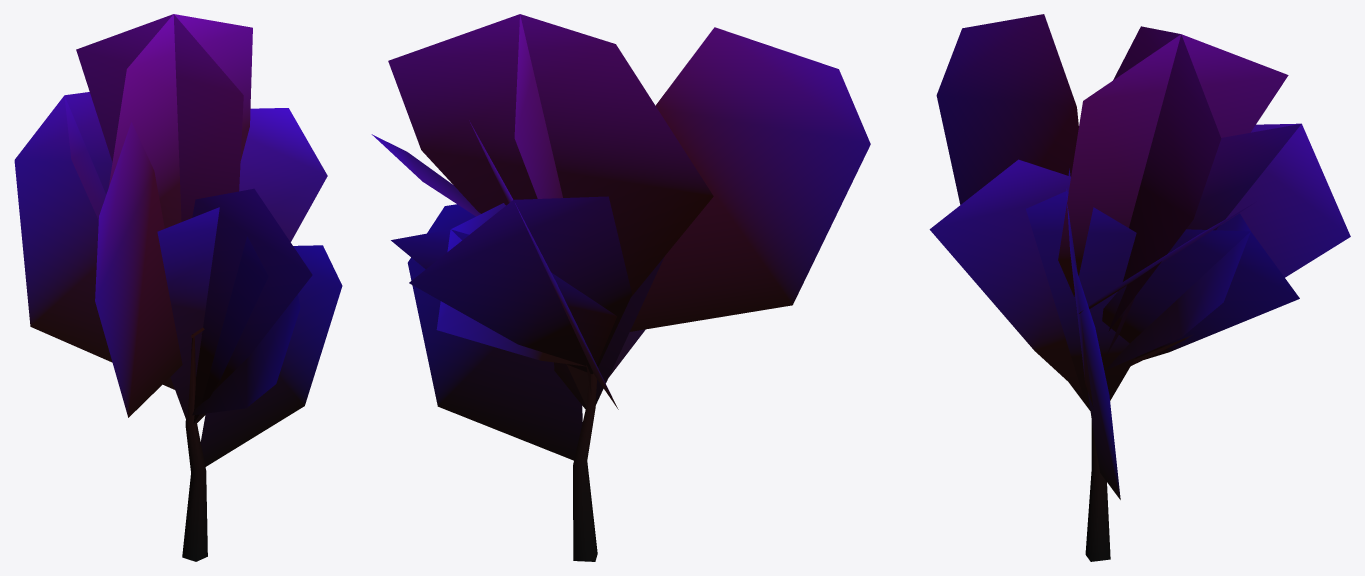
File: Bush_A_01.fbx
The picture shows the model from 3 angles, left to right: view 1: azimuth 30°, elevation 25°; view 2: azimuth 150°, elevation 25°; view 3: azimuth 270°, elevation 25°; orthographic projection. The views are drawn at different scales.
Parts seen in each view (by area): view 1: Bush_A_01; view 2: Bush_A_01; view 3: Bush_A_01.
Part boxes in pixels (box(x1,y1,x2,y2)): Bush_A_01: box(14, 14, 342, 561); Bush_A_01: box(371, 14, 870, 561); Bush_A_01: box(929, 14, 1350, 561).
Size of the model in its own units: 143 by 211 by 162.
